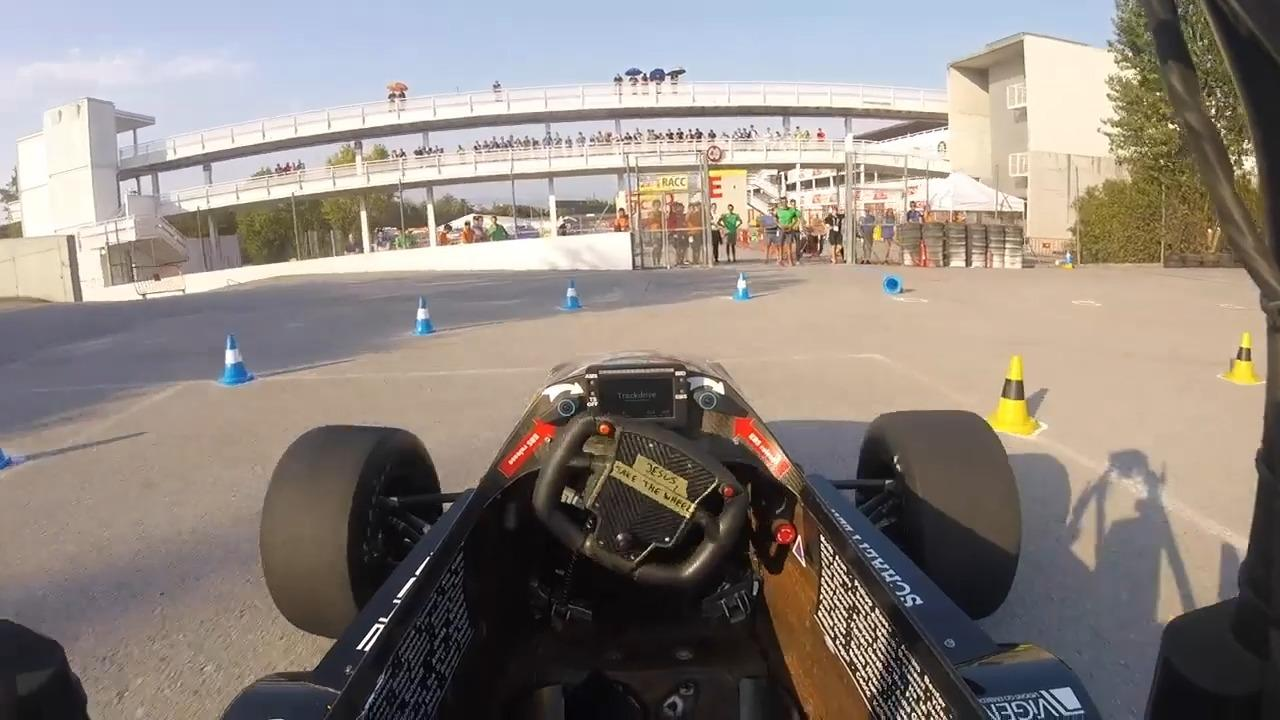blue_cone: (216, 331, 259, 388), (409, 294, 438, 334), (559, 276, 585, 313), (727, 270, 754, 302), (881, 273, 905, 297), (0, 442, 15, 474), (1065, 250, 1073, 263)
yellow_cone: (991, 352, 1043, 436), (1221, 331, 1265, 387)
